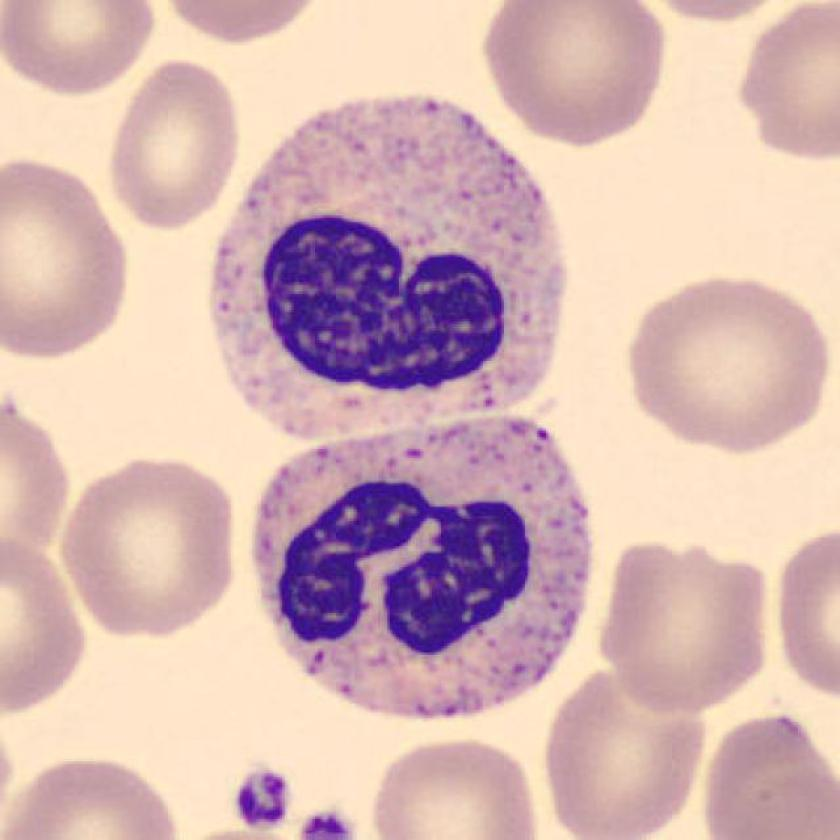neutrophil: (218, 99, 566, 440), (255, 420, 591, 720)
